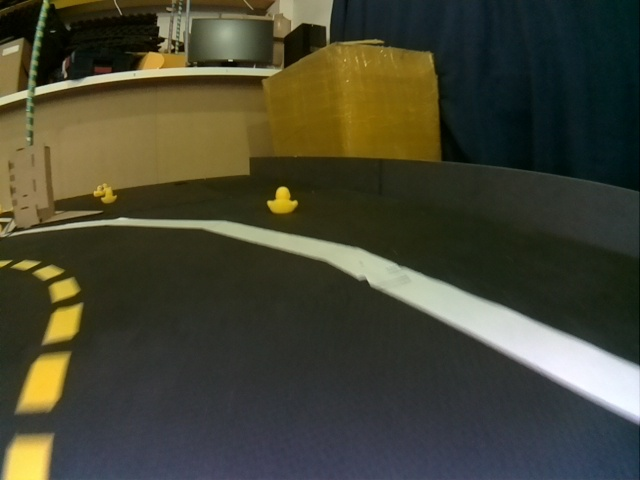Duckie: (267, 187, 297, 214), (101, 189, 117, 203), (102, 183, 112, 193), (94, 186, 103, 196)
